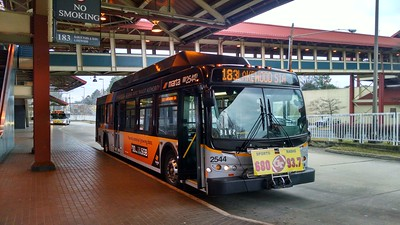bus: (96, 51, 315, 195)
